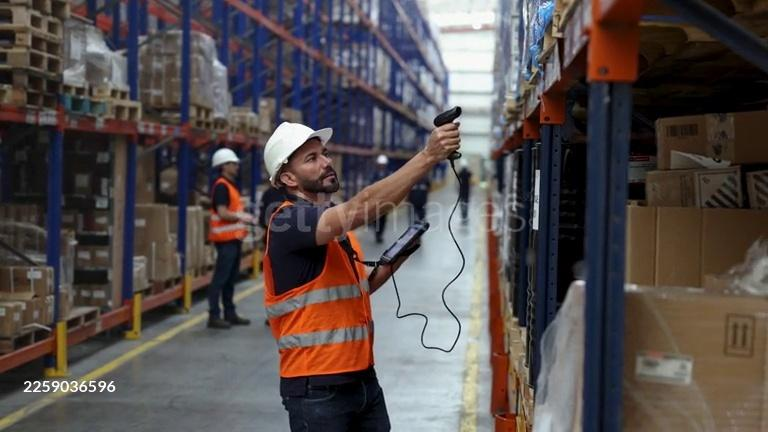helmet: (264, 120, 334, 182), (210, 147, 241, 167)
person: (258, 120, 463, 432), (205, 147, 261, 331), (256, 168, 290, 239), (368, 154, 391, 244), (451, 166, 472, 224), (406, 173, 430, 213)
